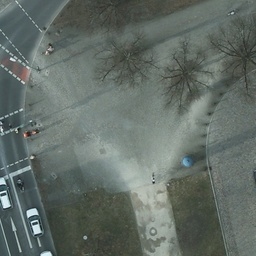car: (25, 209, 46, 238), (0, 176, 14, 210)
